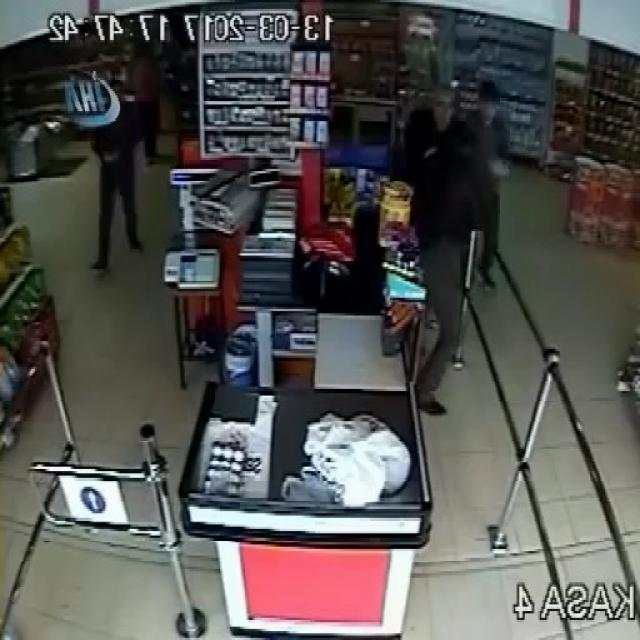fight: (365, 70, 488, 352)
